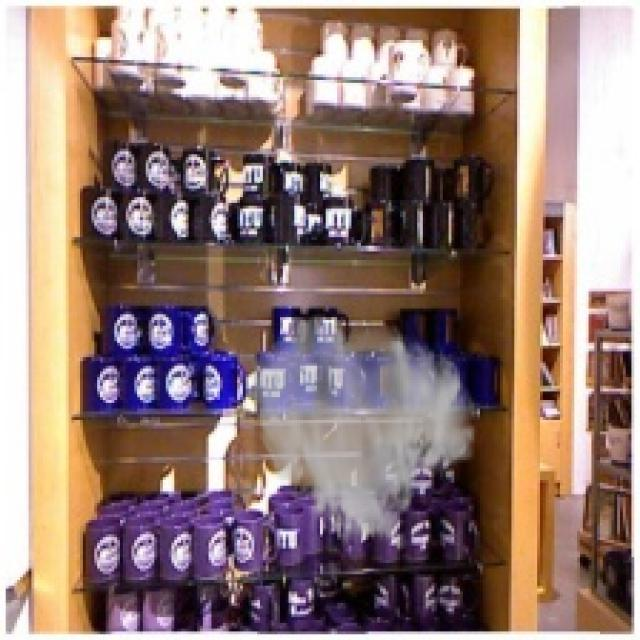smoke: (249, 312, 480, 554)
